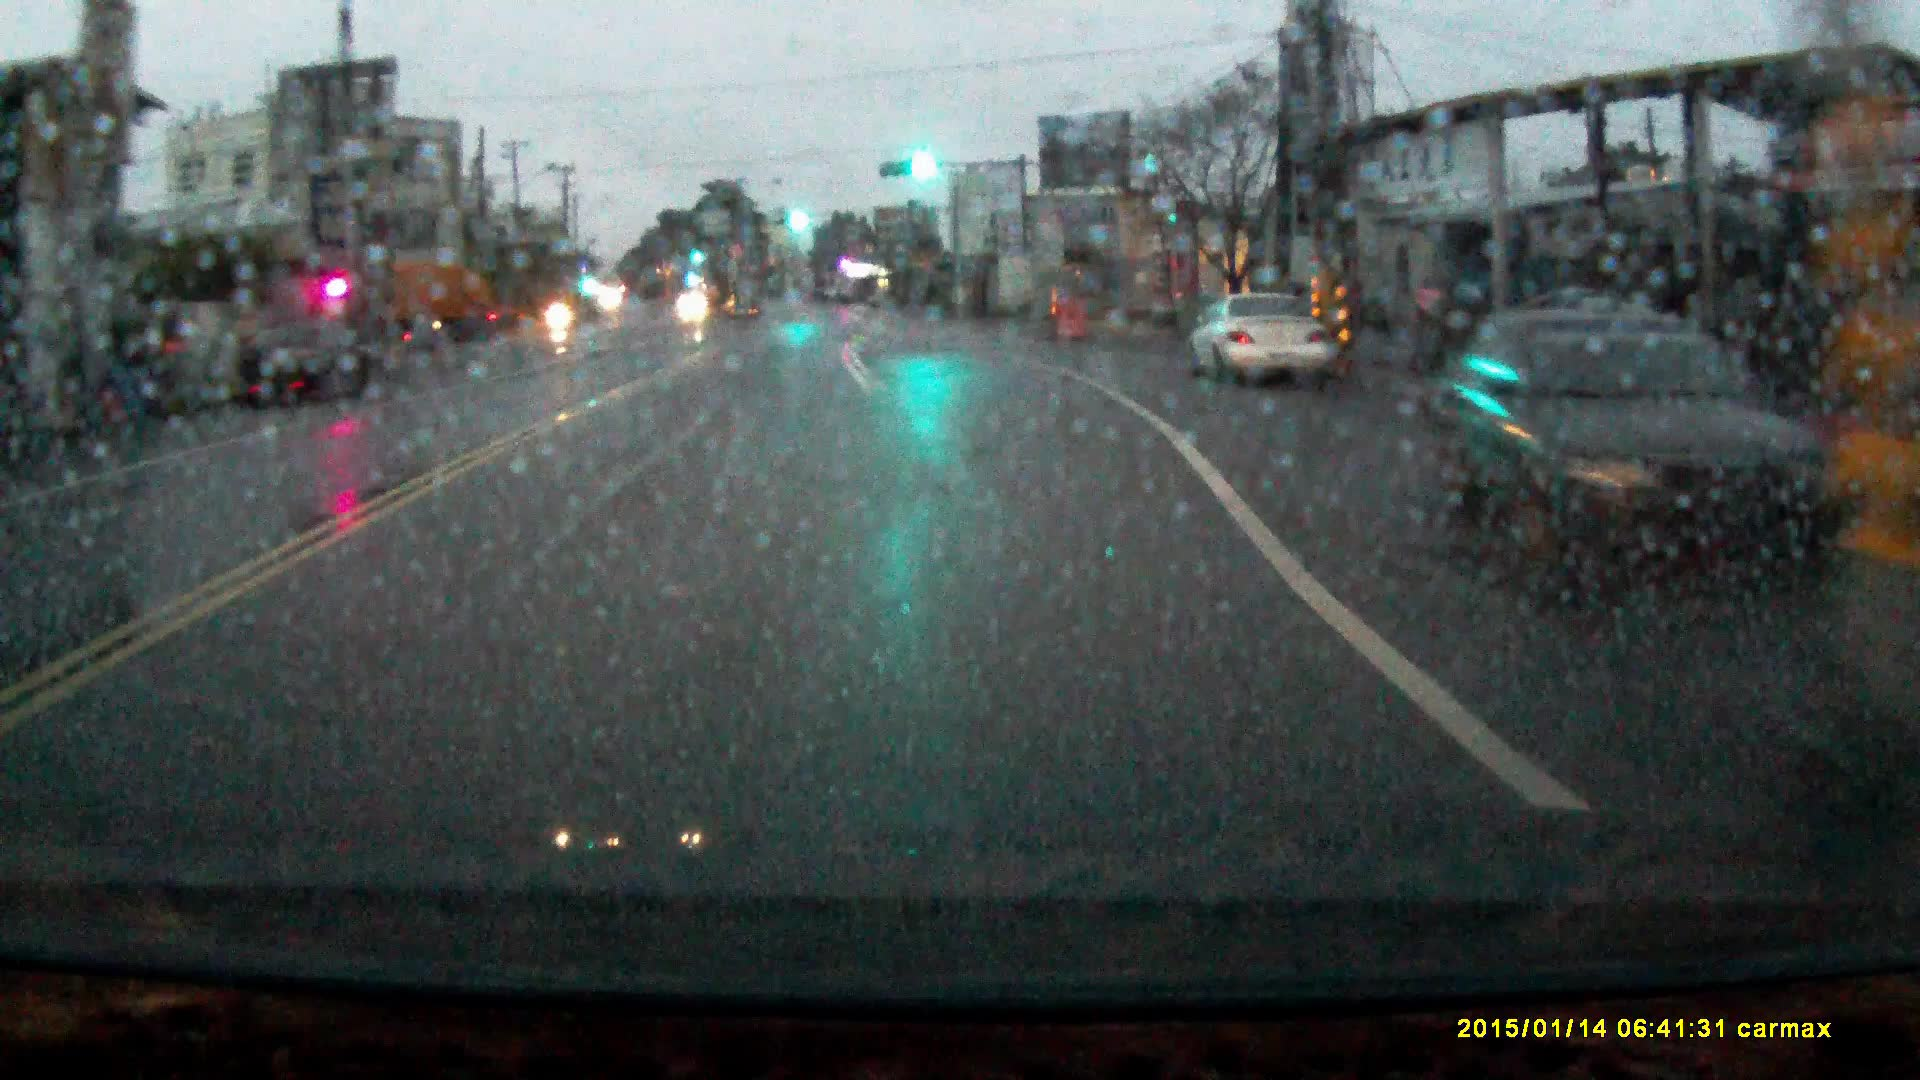rider: (543, 281, 577, 340)
vehicle: (1430, 315, 1795, 559), (1188, 288, 1324, 386), (236, 321, 380, 403), (377, 257, 518, 342), (679, 294, 707, 317)
